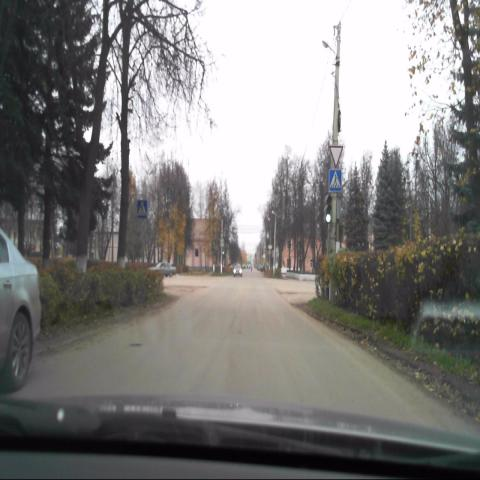2_4: (330, 145, 344, 166)
5_19_1: (328, 169, 342, 191), (138, 199, 148, 219)
